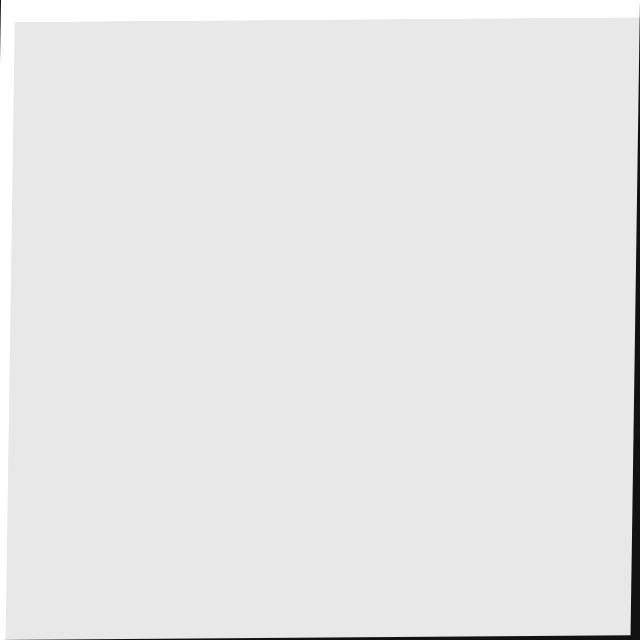qr_code: (7, 18, 640, 640)
